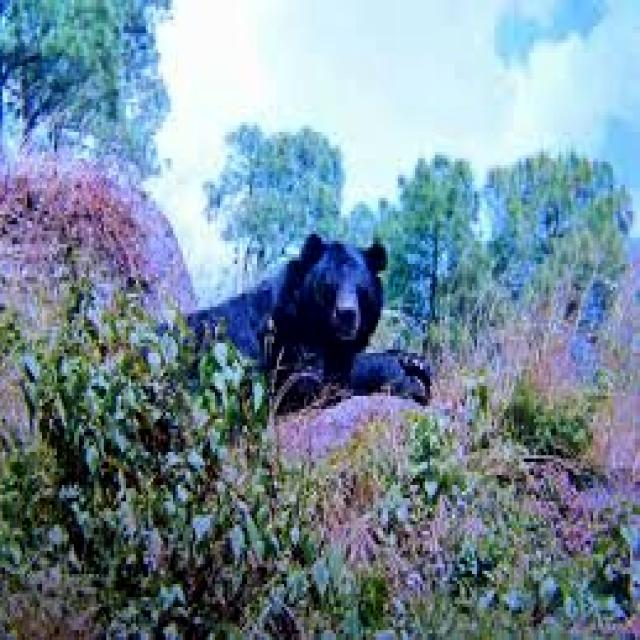bear: (221, 229, 430, 445)
